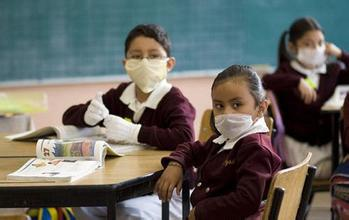OK: (127, 44, 168, 85), (299, 36, 328, 68)
WRONG: (214, 92, 263, 141)
